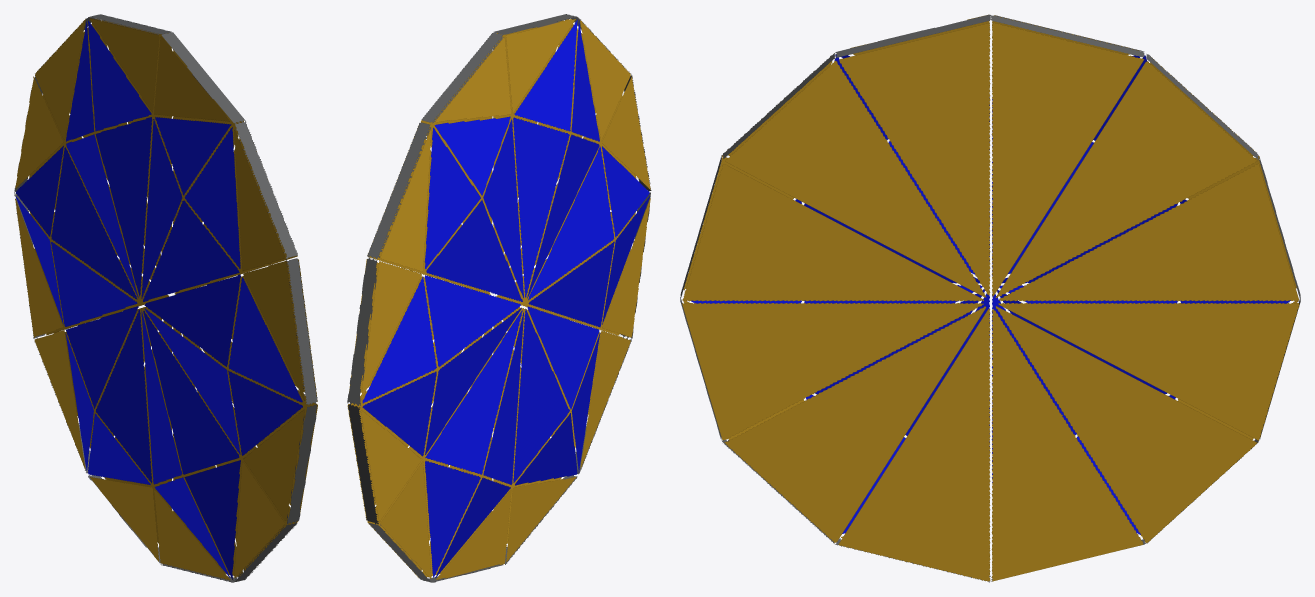
Rendered from Escudo.fbx.
3 renders of one model, left to right at view 1: azimuth 30°, elevation 25°; view 2: azimuth 150°, elevation 25°; view 3: azimuth 270°, elevation 25°, orthographic. The views are drawn at different scales.
Visible parts, largest first — view 1: Circle.007; view 2: Circle.007; view 3: Circle.007.
Boxes of the visible parts, bbox=[...] form: Circle.007: bbox=[14, 14, 317, 582]; Circle.007: bbox=[347, 14, 651, 582]; Circle.007: bbox=[680, 14, 1300, 582].
Bounding box in the file's own units: 24.79 × 370 × 370.
